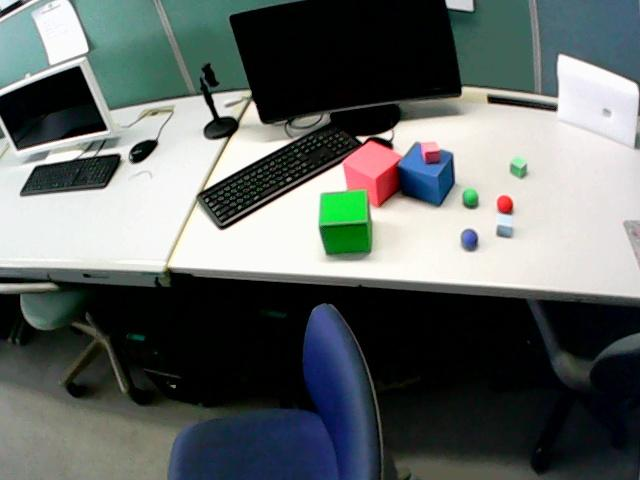blue_block: (398, 142, 454, 205), (496, 213, 513, 237), (497, 224, 512, 237)
red_block: (343, 141, 401, 206), (421, 142, 440, 163)
